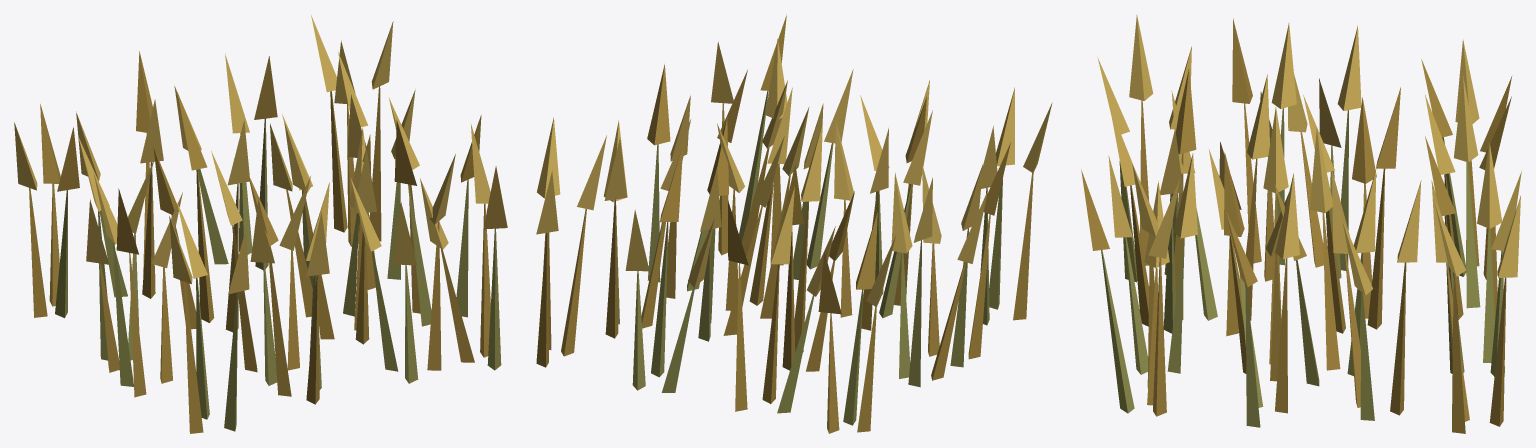
The model's file is wheat_patch.fbx.
3 renders of one model, left to right at view 1: azimuth 30°, elevation 25°; view 2: azimuth 150°, elevation 25°; view 3: azimuth 270°, elevation 25°, orthographic. The views are drawn at different scales.
Visible parts, largest first — view 1: wheat_patch; view 2: wheat_patch; view 3: wheat_patch.
Part boxes in pixels (x1,y1,x2,y2): wheat_patch: (14, 15, 507, 433); wheat_patch: (536, 14, 1052, 433); wheat_patch: (1081, 15, 1521, 433).
Bounding box in the file's own units: 1.79 × 1.02 × 1.74.
